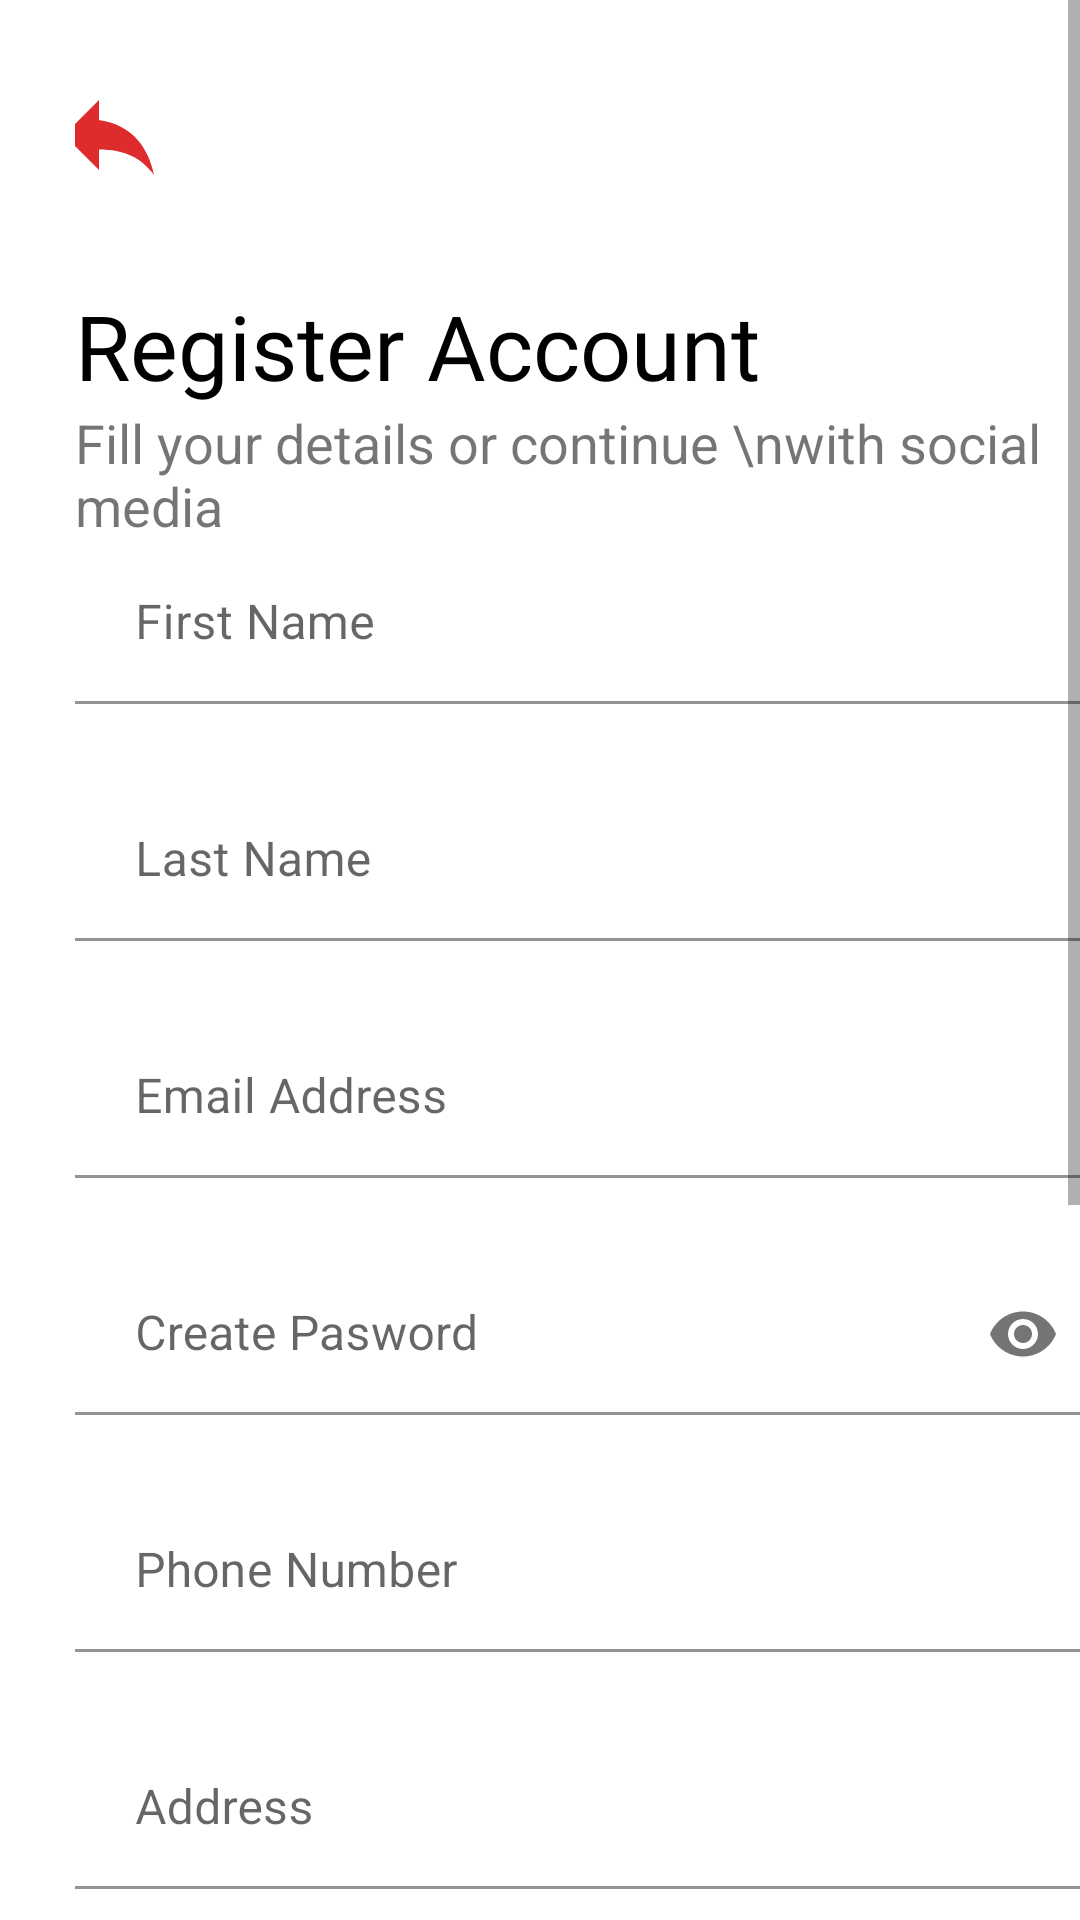

Where to tap for icons on this 1080w x 1920h app screen, as (x=x, y=y):
back: (x=114, y=137)
